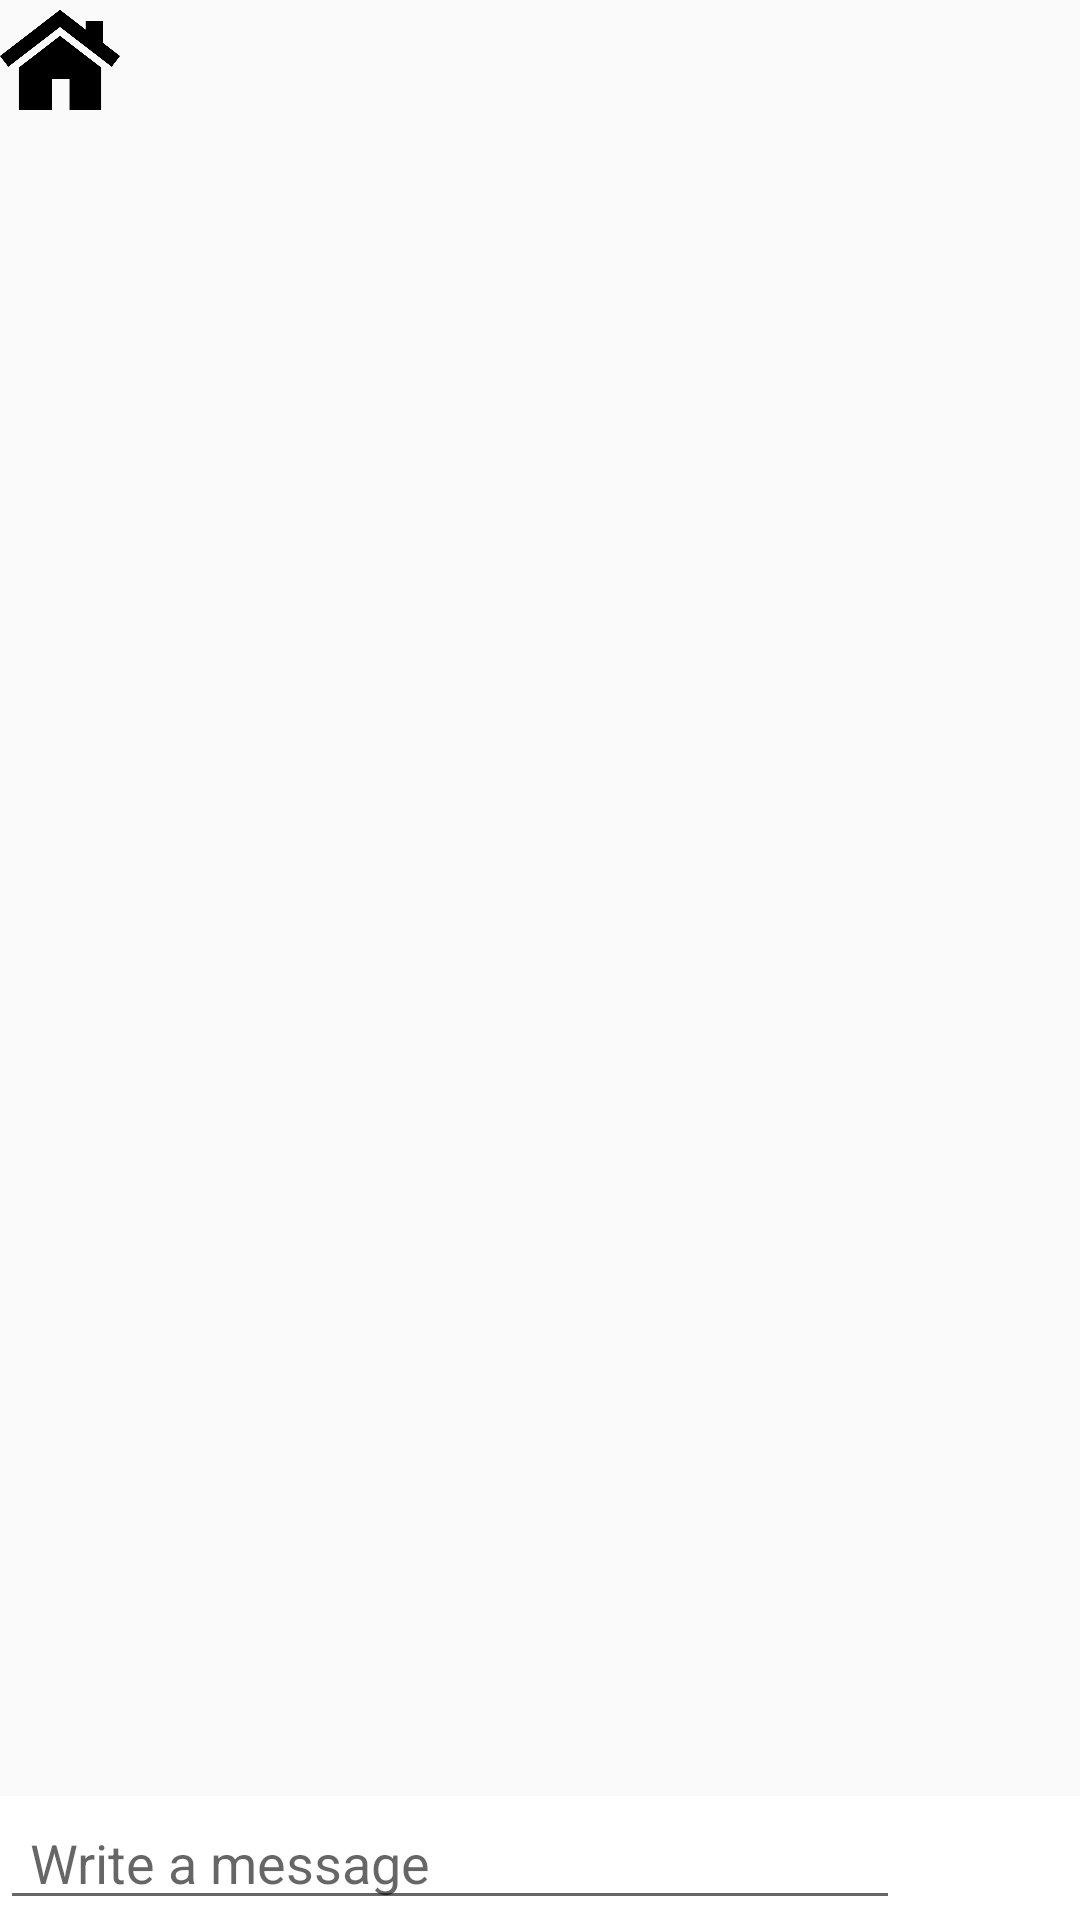

Icons on this 1080×1920 Android screen, each with its box as [x1, y1, x2, y2]:
home: [0, 10, 120, 110]
